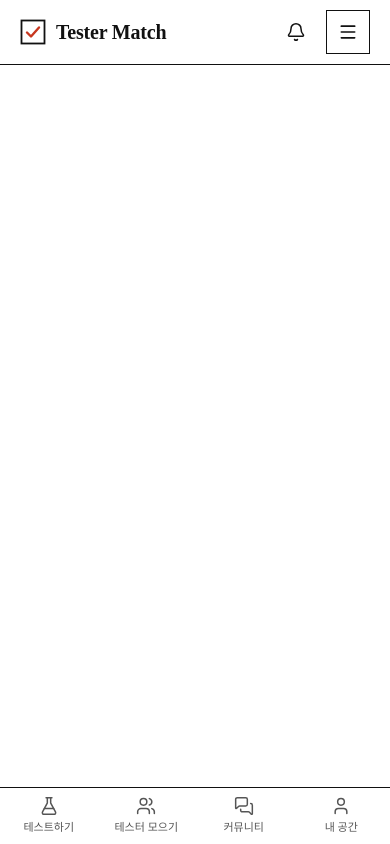
Scenario: SiteHeader › keeps all eleven menus reachable from the mobile menu
The width and height of the screenshot is (390, 844).
Click the button named "메뉴 열기". click: coordinates (348, 32)
box: [326,10,370,54]
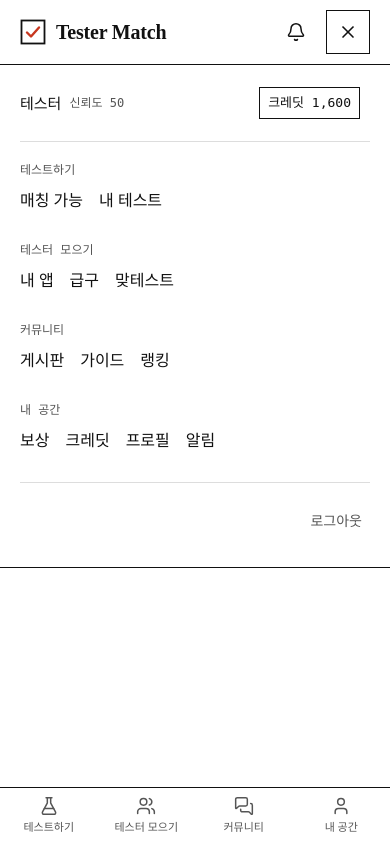
Now the link "매칭 가능" is shown, box [20,189,83,211]
Now the link "내 테스트" is shown, box [99,189,162,211]
Now the link "내 앱" is shown, box [20,269,54,291]
